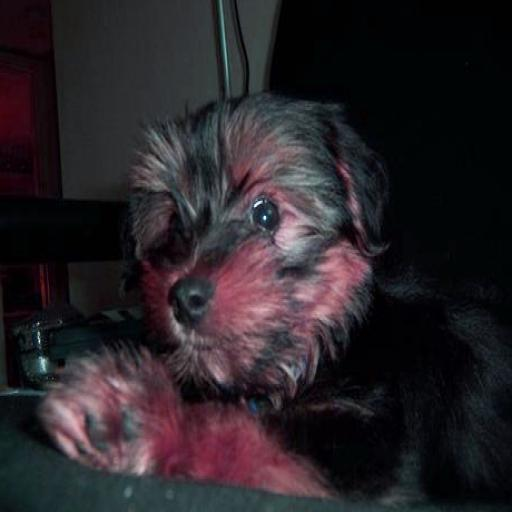dog_face: (125, 107, 385, 395)
